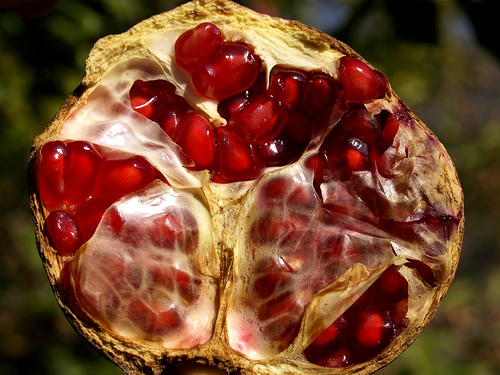pomogranate: (29, 0, 467, 374), (191, 42, 260, 101)
